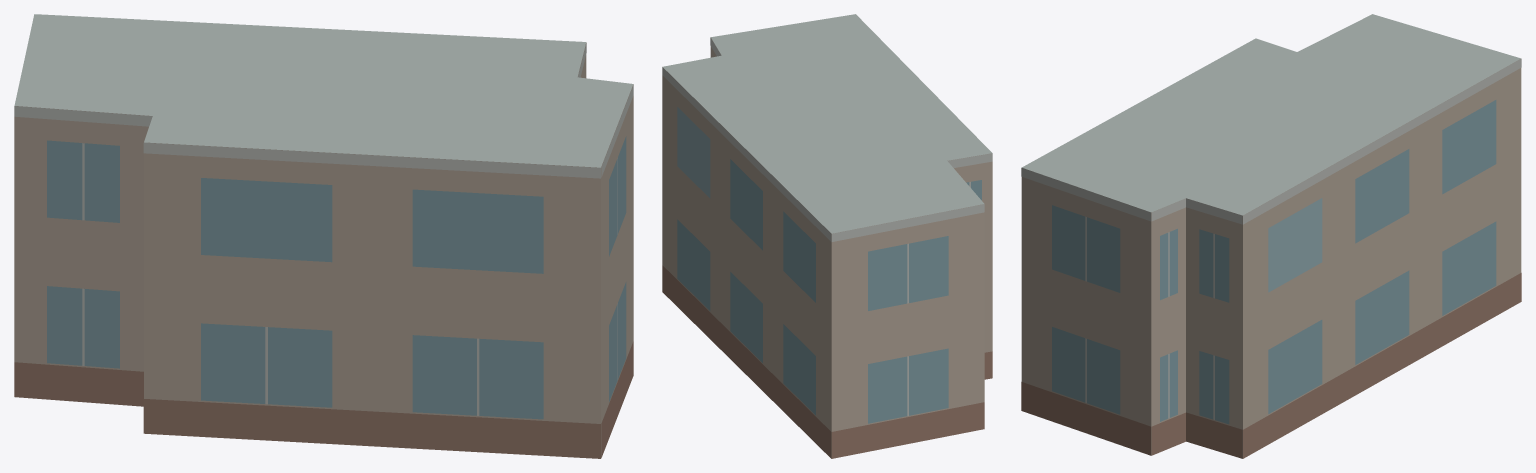
The model's file is survey-upis-32671527.glb.
The picture shows the model from 3 angles, left to right: view 1: azimuth 30°, elevation 25°; view 2: azimuth 150°, elevation 25°; view 3: azimuth 270°, elevation 25°; orthographic projection. The views are drawn at different scales.
Parts seen in each view (by area): view 1: survey-upis-32671527.tmp; view 2: survey-upis-32671527.tmp; view 3: survey-upis-32671527.tmp.
Part boxes in pixels (<box>): survey-upis-32671527.tmp: <box>14,14,633,458</box>; survey-upis-32671527.tmp: <box>662,14,992,458</box>; survey-upis-32671527.tmp: <box>1021,14,1521,458</box>.
Bounding box in the file's own units: 11.56 × 6.5 × 12.11.
